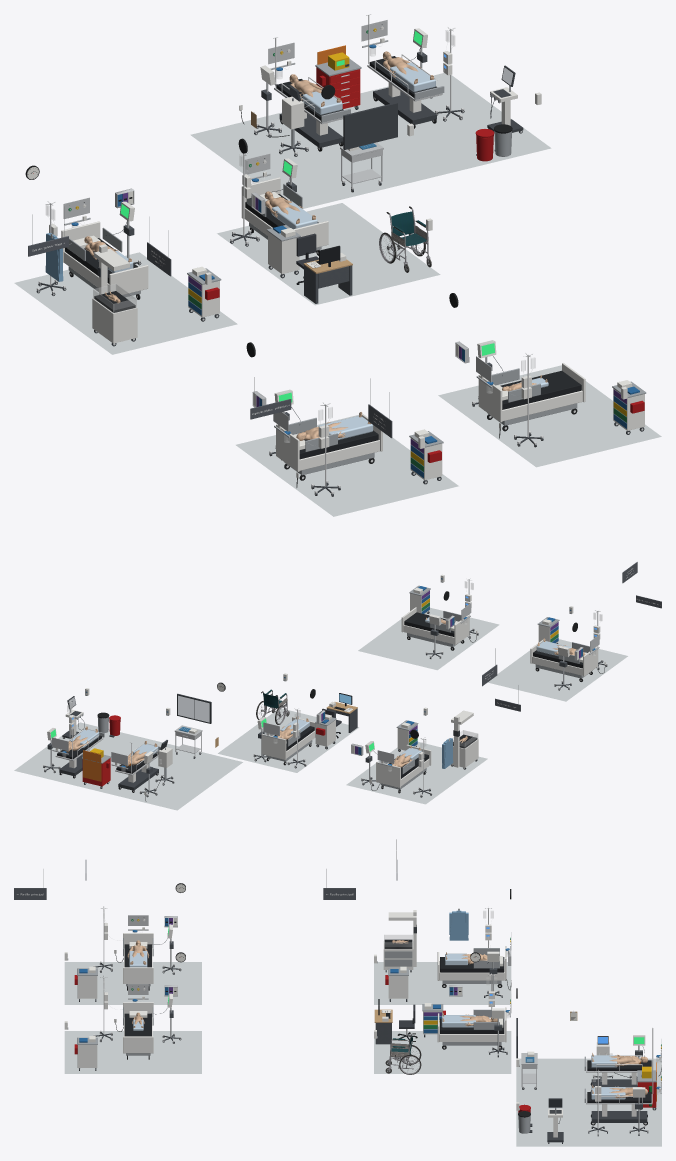
The model's file is 13_n1_urgencias.glb.
3 renders of one model, top to bottom at view 1: azimuth 30°, elevation 25°; view 2: azimuth 150°, elevation 25°; view 3: azimuth 270°, elevation 25°, orthographic. The views are drawn at different scales.
Visible parts, largest first — view 1: piso · Atención al politraumatizado y recepción de ambulanci, piso · Urgencias ginecológicas, piso · Urgencias pediátricas, piso · Urgencias adultos, piso · Sala de urgencias · Triage, cama_urgencias.001 (×2), carro_curacion (×4), cama_urgencias.002, cama_urgencias, cuna_radiante, camilla_trauma.001, carro_rojo (+8 smaller); view 2: piso · Atención al politraumatizado y recepción de ambulanci, piso · Urgencias pediátricas, piso · Urgencias adultos, piso · Urgencias ginecológicas, cama_urgencias.001 (×2), piso · Sala de urgencias · Triage, carro_curacion (×4), cama_urgencias.002, cama_urgencias, cuna_radiante, carro_rojo, camilla_trauma.002 (+6 smaller); view 3: piso · Atención al politraumatizado y recepción de ambulanci, piso · Urgencias pediátricas, piso · Sala de urgencias · Triage, piso · Urgencias adultos, piso · Urgencias ginecológicas, cama_urgencias.001 (×2), carro_curacion (×4), cama_urgencias, cama_urgencias.002, cuna_radiante, camilla_trauma.001, camilla_trauma.002 (+6 smaller).
Part boxes in pixels (left/top/right/bottom): piso · Atención al politraumatizado y recepción de ambulanci: left=190, top=73, right=551, bottom=208; piso · Urgencias ginecológicas: left=14, top=252, right=237, bottom=354; piso · Urgencias pediátricas: left=438, top=365, right=661, bottom=467; piso · Urgencias adultos: left=236, top=415, right=458, bottom=516; piso · Sala de urgencias · Triage: left=217, top=203, right=440, bottom=305; cama_urgencias.001 (×2): left=241, top=177, right=382, bottom=480; carro_curacion (×4): left=187, top=225, right=646, bottom=484; cama_urgencias.002: left=478, top=363, right=585, bottom=431; cama_urgencias: left=61, top=221, right=148, bottom=299; cuna_radiante: left=92, top=244, right=137, bottom=346; camilla_trauma.001: left=366, top=14, right=444, bottom=128; carro_rojo: left=315, top=45, right=361, bottom=109; piso · Atención al politraumatizado y recepción de ambulanci: left=14, top=722, right=242, bottom=810; piso · Urgencias pediátricas: left=358, top=607, right=499, bottom=670; piso · Urgencias adultos: left=488, top=639, right=627, bottom=701; piso · Urgencias ginecológicas: left=346, top=742, right=487, bottom=804; cama_urgencias.001 (×2): left=261, top=639, right=597, bottom=765; piso · Sala de urgencias · Triage: left=218, top=708, right=358, bottom=772; carro_curacion (×4): left=315, top=585, right=559, bottom=751; cama_urgencias.002: left=401, top=607, right=469, bottom=650; cama_urgencias: left=376, top=744, right=431, bottom=793; cuna_radiante: left=451, top=710, right=478, bottom=769; carro_rojo: left=82, top=748, right=111, bottom=788; camilla_trauma.002: left=115, top=742, right=160, bottom=792; piso · Atención al politraumatizado y recepción de ambulanci: left=516, top=1058, right=661, bottom=1146; piso · Urgencias pediátricas: left=64, top=1031, right=201, bottom=1073; piso · Sala de urgencias · Triage: left=374, top=1031, right=511, bottom=1073; piso · Urgencias adultos: left=64, top=962, right=201, bottom=1004; piso · Urgencias ginecológicas: left=374, top=962, right=511, bottom=1004; cama_urgencias.001 (×2): left=123, top=933, right=506, bottom=1049; carro_curacion (×4): left=74, top=966, right=445, bottom=1070; cama_urgencias: left=437, top=946, right=506, bottom=987; cama_urgencias.002: left=123, top=1002, right=153, bottom=1059; cuna_radiante: left=383, top=910, right=416, bottom=972; camilla_trauma.001: left=584, top=1059, right=653, bottom=1125; camilla_trauma.002: left=584, top=1027, right=653, bottom=1091.
Size of the model in its own units: 15.02 by 3.49 by 19.8.
37 materials, 2 textured.
